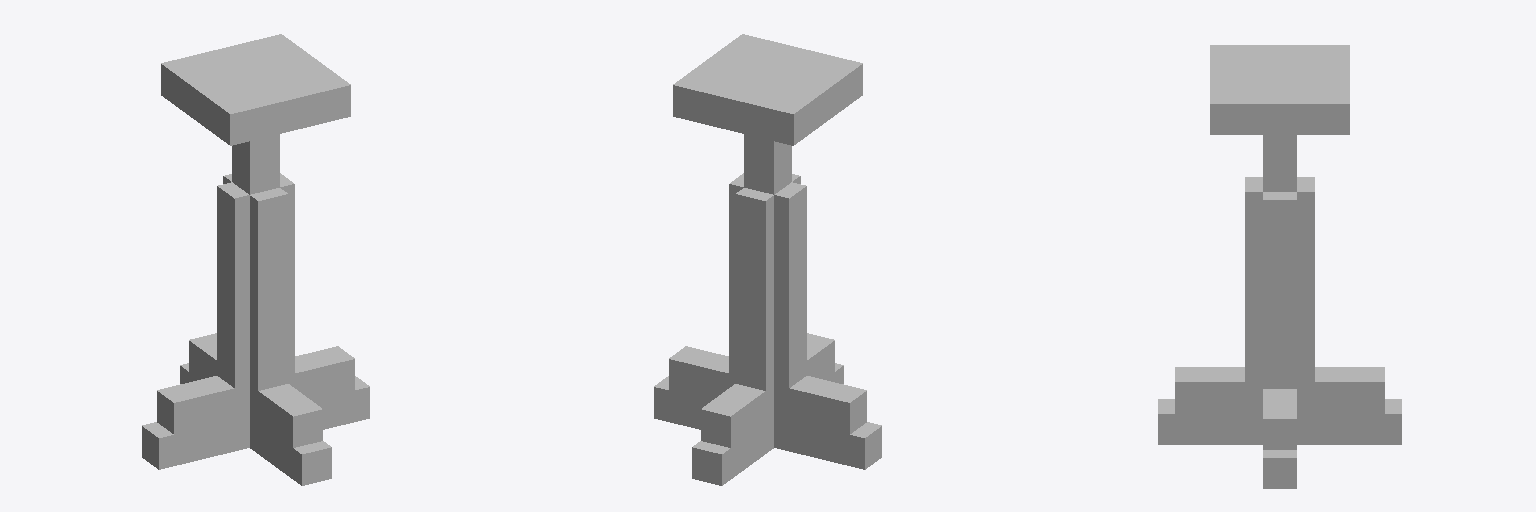
Rendered from Stool.obj.
3 renders of one model, left to right at view 1: azimuth 30°, elevation 25°; view 2: azimuth 150°, elevation 25°; view 3: azimuth 270°, elevation 25°, orthographic.
Visible parts, largest first — view 1: object 1; view 2: object 1; view 3: object 1.
Part boxes in pixels (left/top/right/bottom): object 1: left=142, top=34, right=369, bottom=485; object 1: left=654, top=34, right=881, bottom=485; object 1: left=1158, top=45, right=1401, bottom=488.
Bounding box in the file's own units: 1.4 × 2.3 × 1.4.